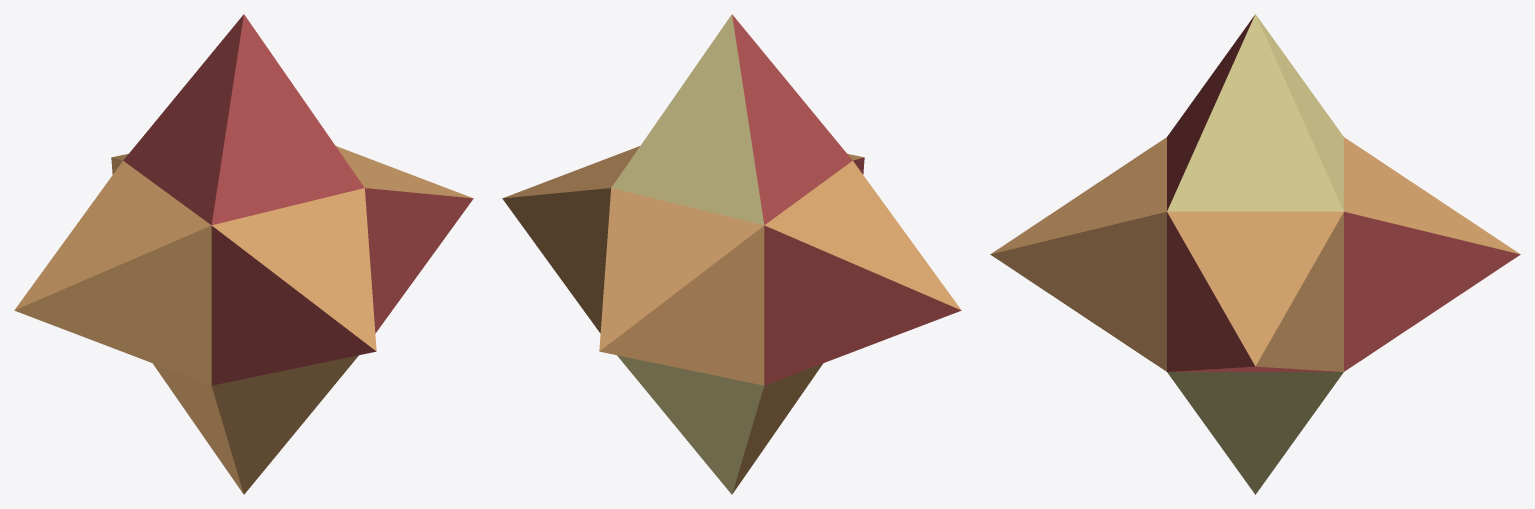
3 renders of one model, left to right at view 1: azimuth 30°, elevation 25°; view 2: azimuth 150°, elevation 25°; view 3: azimuth 270°, elevation 25°, orthographic.
Visible parts, largest first — view 1: Star; view 2: Star; view 3: Star.
Boxes of the visible parts, x1=… form: Star: x1=14, y1=14, x2=473, y2=494; Star: x1=502, y1=14, x2=961, y2=494; Star: x1=990, y1=14, x2=1520, y2=494.
Size of the model in its own units: 30 by 30 by 30.
1 material, 1 textured.
